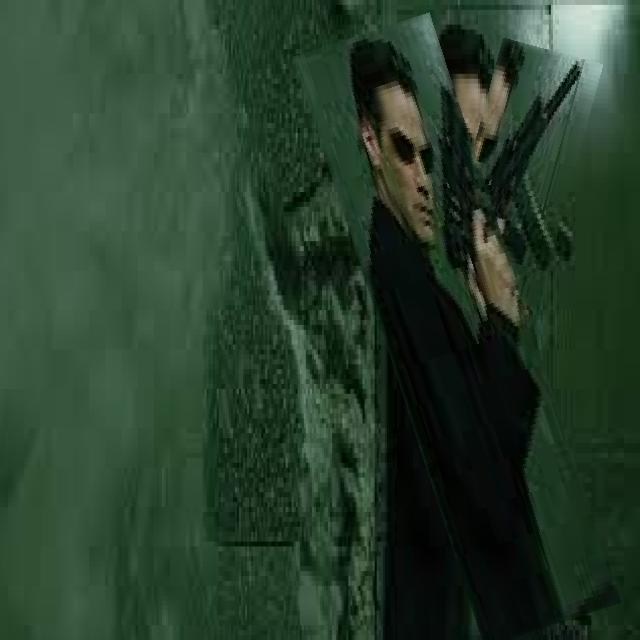Gun_Holder: (460, 57, 595, 262)
Person: (316, 33, 554, 616)
